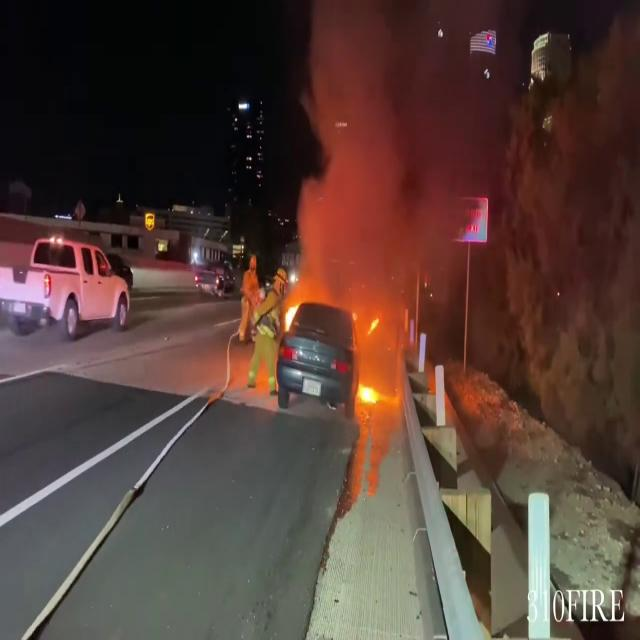Fire: (355, 378, 383, 410), (282, 294, 302, 334)
Smoke: (289, 0, 458, 284)
